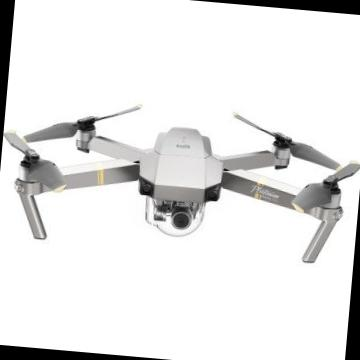drone: (0, 96, 360, 275)
